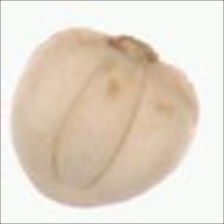L5: (51, 57, 147, 188), (102, 30, 166, 68)
L6: (10, 26, 202, 211)
